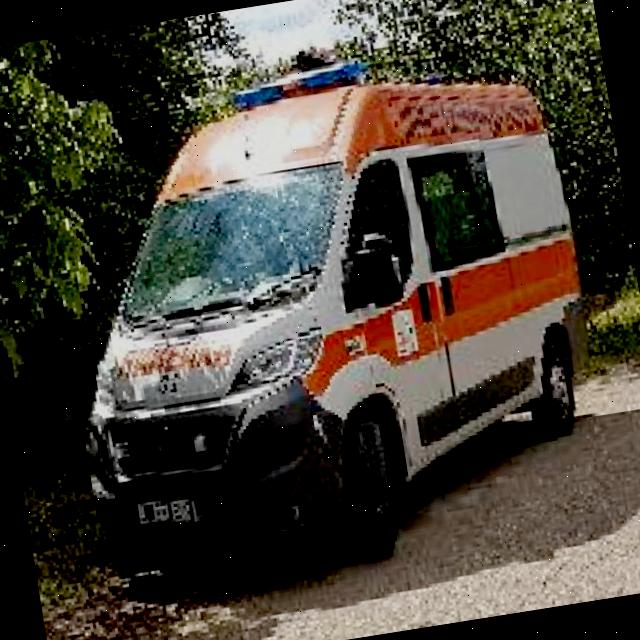emergency: (28, 30, 623, 602)
